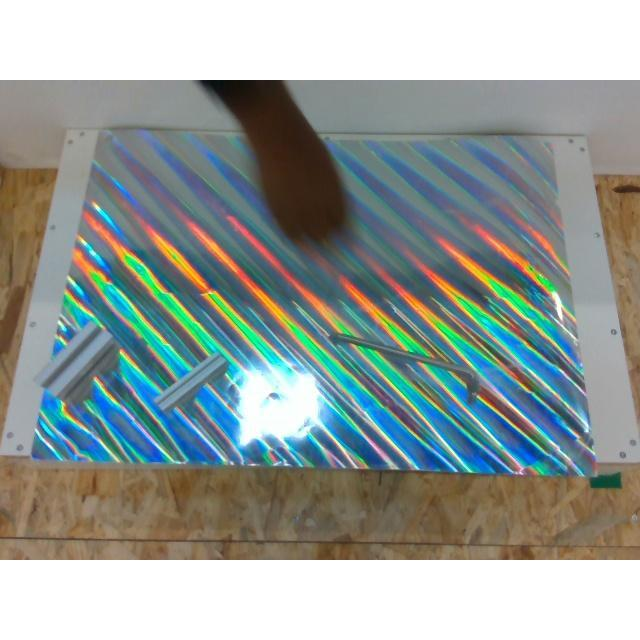AllenKey: (328, 332, 477, 404)
F20_20_G: (154, 353, 226, 409)
S40_40_G: (34, 322, 118, 402)
